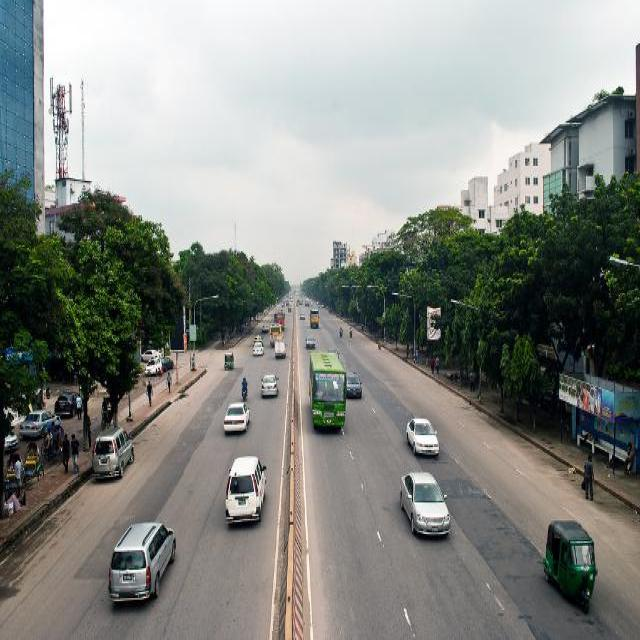10: (240, 373, 248, 399), (348, 324, 352, 336), (338, 325, 342, 336)
11: (272, 338, 286, 356)
13: (22, 438, 46, 479), (4, 449, 22, 492), (45, 421, 63, 460), (100, 392, 114, 426)
16: (252, 331, 262, 339)
17: (540, 515, 596, 609), (223, 348, 233, 367)
18: (308, 305, 318, 326)
5: (102, 516, 178, 604), (399, 467, 451, 536), (16, 404, 58, 435), (406, 413, 438, 452), (221, 399, 249, 431), (52, 389, 80, 414), (260, 369, 278, 394), (347, 367, 361, 399), (142, 355, 162, 375), (251, 340, 263, 354), (163, 354, 173, 370), (141, 346, 161, 354), (304, 334, 314, 346), (260, 322, 268, 331), (299, 309, 305, 316)
9: (222, 450, 266, 522), (88, 422, 134, 477)
Truck: (306, 349, 346, 429), (269, 322, 281, 336), (273, 310, 285, 321), (302, 294, 308, 304)
